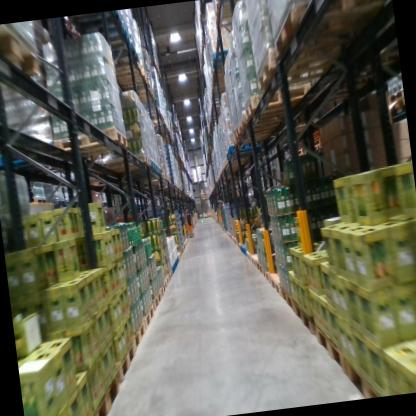pallet: (266, 0, 397, 67), (249, 37, 358, 93), (241, 72, 362, 122), (47, 124, 133, 171), (0, 22, 46, 96), (314, 316, 350, 381), (87, 364, 126, 416), (344, 348, 383, 398), (234, 107, 293, 136), (208, 0, 249, 34), (85, 23, 135, 49), (96, 39, 140, 67), (111, 336, 137, 381), (102, 151, 151, 174), (107, 66, 152, 91), (291, 293, 317, 334), (234, 121, 290, 139), (129, 315, 149, 359), (126, 84, 157, 107), (120, 159, 156, 177), (138, 303, 157, 333), (280, 280, 294, 314), (384, 86, 404, 109), (269, 268, 285, 295), (209, 50, 233, 67), (250, 249, 267, 270), (147, 290, 163, 311), (157, 273, 169, 293), (262, 262, 272, 286), (255, 258, 267, 277), (153, 283, 166, 300), (28, 197, 47, 208), (245, 247, 252, 265), (166, 269, 173, 281), (169, 262, 175, 273)
pallet_truck: (180, 195, 195, 239)
